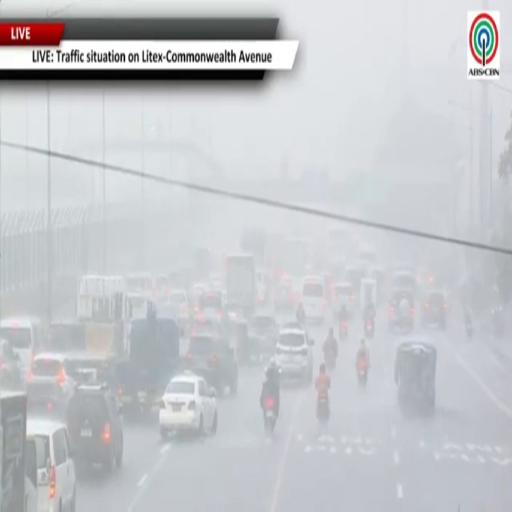car: (67, 384, 123, 471), (27, 420, 76, 511), (159, 374, 217, 438), (185, 334, 238, 394), (0, 317, 43, 375), (275, 327, 313, 381), (66, 351, 117, 388), (27, 380, 73, 421), (27, 352, 74, 392), (44, 320, 86, 353), (248, 311, 278, 356), (0, 340, 23, 389), (302, 277, 327, 322), (388, 290, 415, 331), (168, 290, 190, 336), (421, 291, 447, 329), (191, 312, 229, 337), (333, 282, 357, 317), (274, 277, 296, 311), (391, 271, 416, 296)
motorcycle: (264, 397, 276, 434), (492, 306, 504, 338), (317, 392, 329, 422), (357, 359, 368, 388), (324, 348, 336, 370), (364, 317, 374, 339), (339, 320, 347, 340), (465, 320, 473, 338)
truck: (116, 311, 179, 415), (77, 276, 132, 357), (0, 391, 37, 511), (226, 254, 257, 314), (240, 228, 266, 265)
